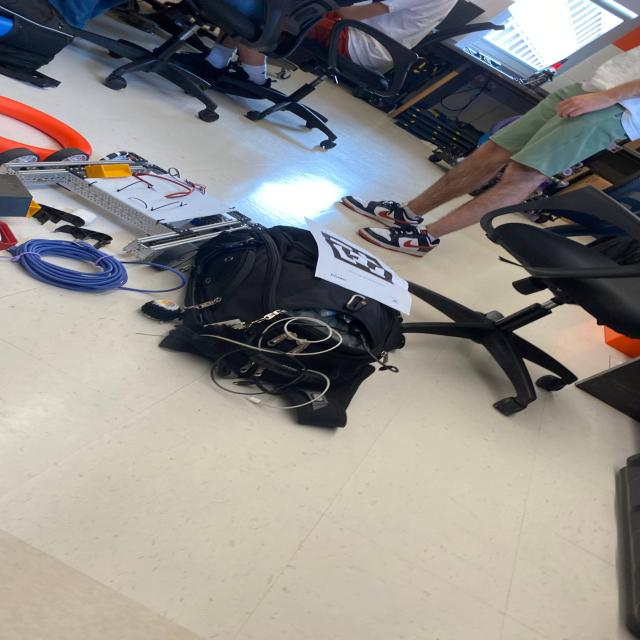yellow-specimen: (85, 164, 131, 179), (25, 200, 41, 217)
